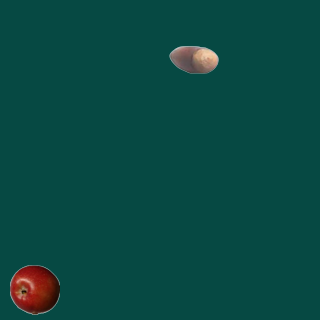Apple Braeburn: (9, 264, 59, 314)
Hazelnut: (168, 34, 218, 84)
